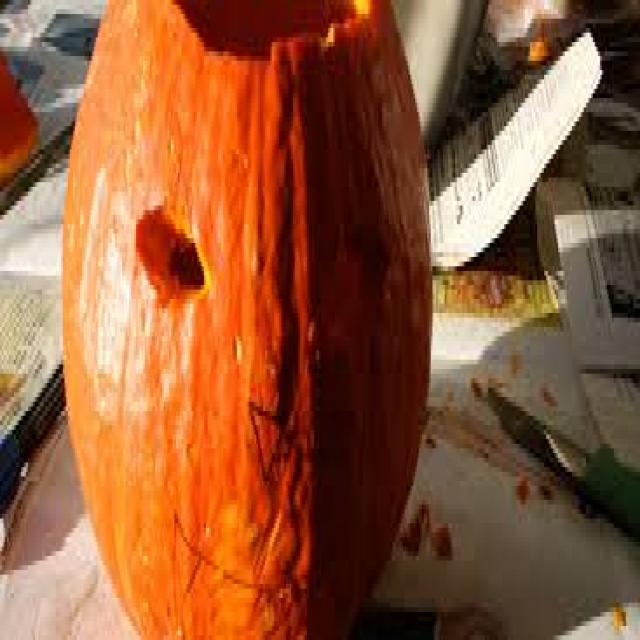organic waste: (59, 0, 428, 635), (0, 42, 35, 173), (522, 14, 550, 61), (427, 514, 448, 546), (513, 467, 530, 500), (405, 504, 415, 546), (610, 589, 622, 621), (419, 491, 427, 523)
